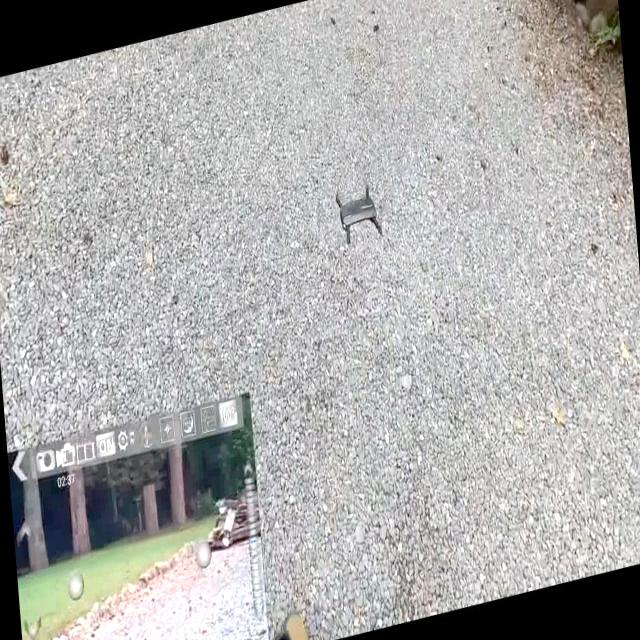drone: (326, 164, 396, 252)
